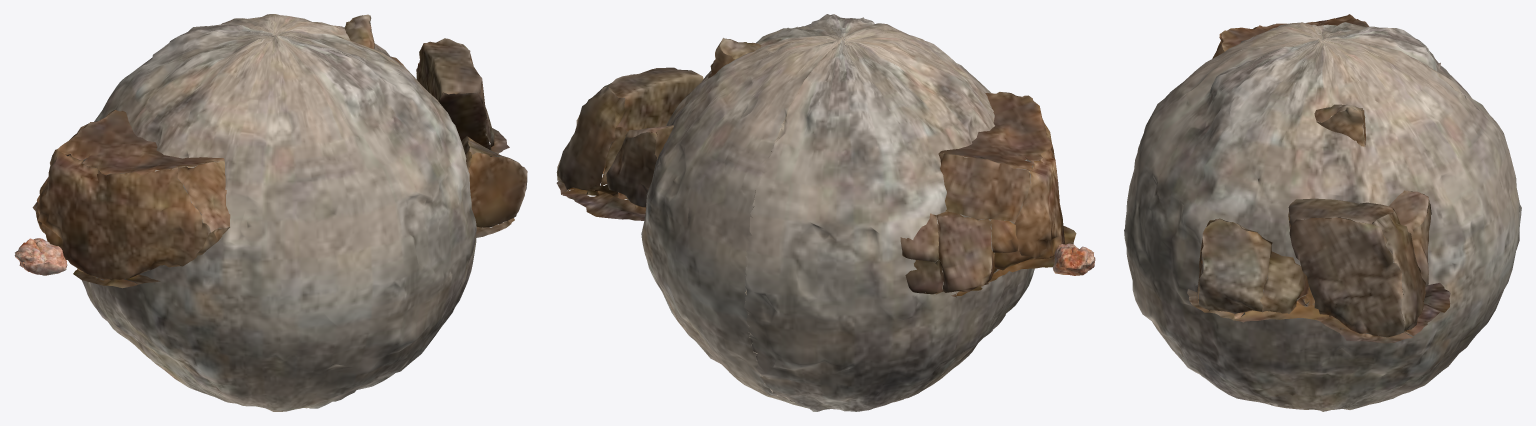
File: rocks.glb
The picture shows the model from 3 angles, left to right: view 1: azimuth 30°, elevation 25°; view 2: azimuth 150°, elevation 25°; view 3: azimuth 270°, elevation 25°; orthographic projection.
Parts seen in each view (by area): view 1: sphere_gltf, boulder_02, namaqualand_rocks_02_a; view 2: sphere_gltf, boulder_02, namaqualand_rocks_02_a; view 3: sphere_gltf, boulder_02.
Boxes of the visible parts, <box> form: sphere_gltf: <box>81,14,476,411</box>; boulder_02: <box>32,14,527,288</box>; namaqualand_rocks_02_a: <box>14,238,67,275</box>; sphere_gltf: <box>641,14,1034,411</box>; boulder_02: <box>556,38,1076,297</box>; namaqualand_rocks_02_a: <box>1052,243,1095,275</box>; sphere_gltf: <box>1124,22,1521,411</box>; boulder_02: <box>1187,14,1450,343</box>.
Bounding box in the file's own units: 2.7 × 1.82 × 1.83.
Materials: 3 (3 with a texture image).
